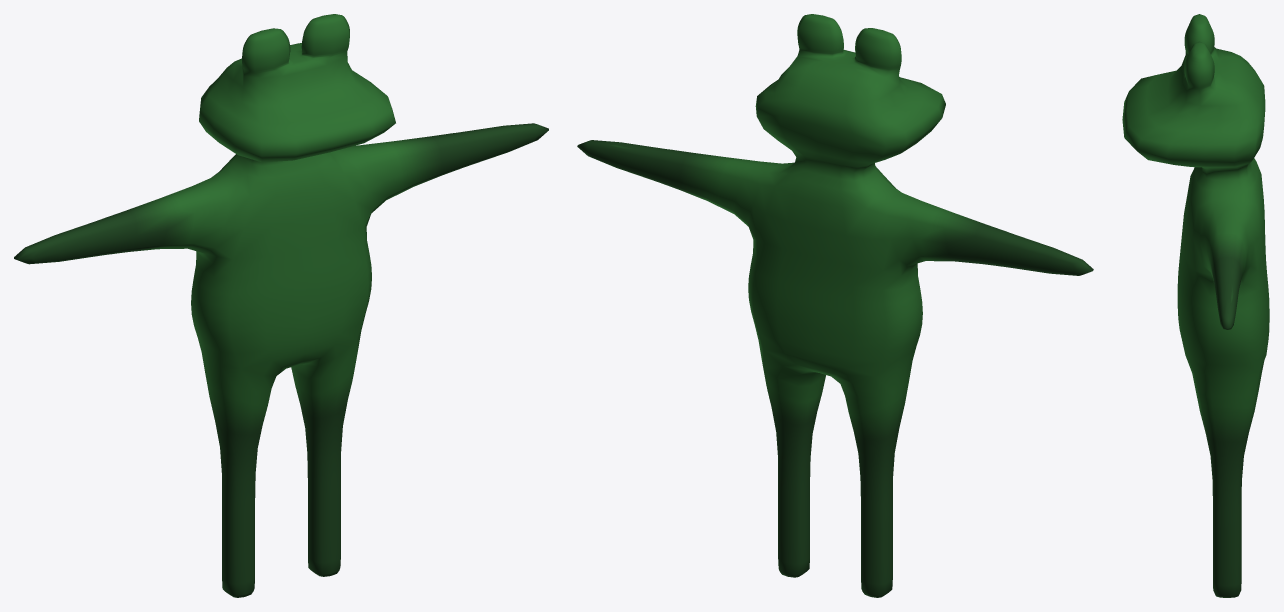
The model's file is zaba.fbx.
The picture shows the model from 3 angles, left to right: view 1: azimuth 30°, elevation 25°; view 2: azimuth 150°, elevation 25°; view 3: azimuth 270°, elevation 25°; orthographic projection. The views are drawn at different scales.
Parts seen in each view (by area): view 1: Cube; view 2: Cube; view 3: Cube.
Boxes of the visible parts, box(x1,y1,x2,y2) form: Cube: box(14, 14, 548, 597); Cube: box(577, 14, 1093, 597); Cube: box(1122, 14, 1269, 597).
Bounding box in the file's own units: 98.62 × 100 × 24.71.
